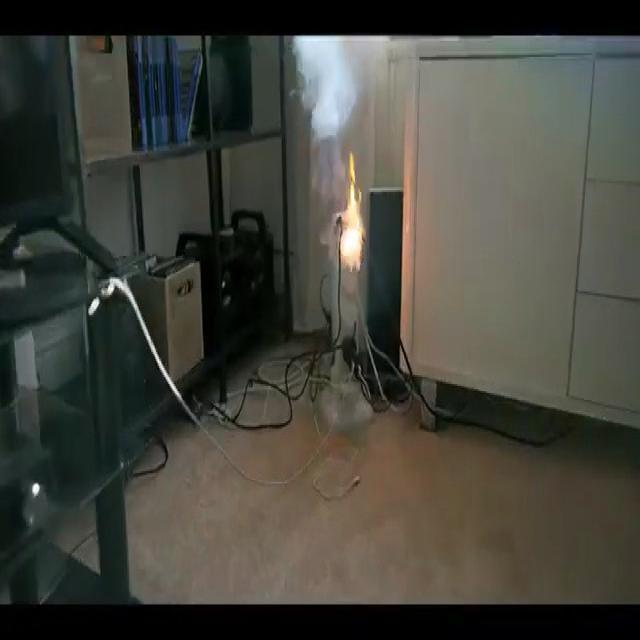fire: (293, 36, 362, 144)
smoke: (334, 148, 372, 273)
